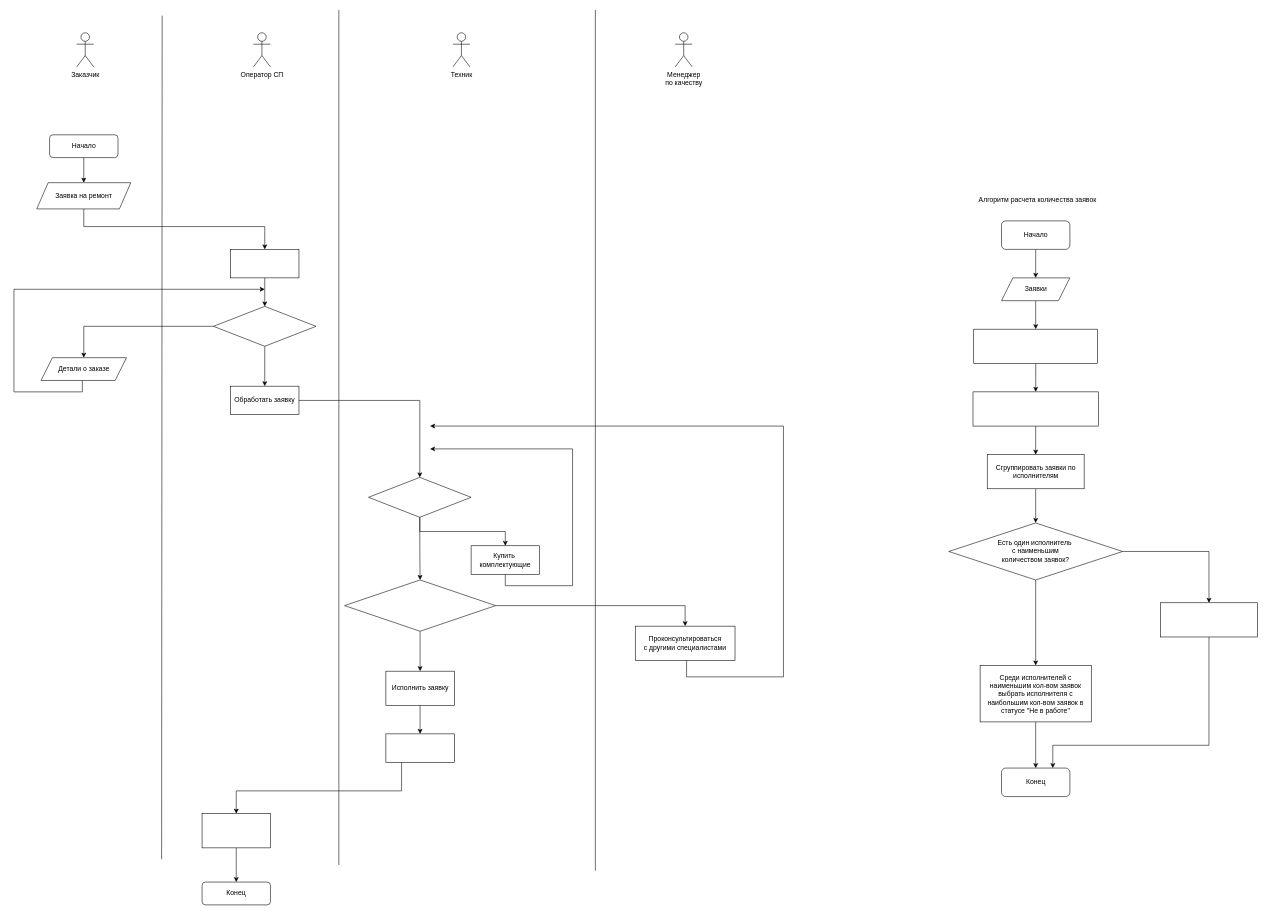
The diagram is 1268 pixels wide and 915 high, and some of its shapes have lost their labels. The centre of each missing label's shape, as x and y in pixels:
Выбрать все заявки в статусе "Не в работе" или "В работе": pixel 1035 346
Выбрать все заявки с назначенным исполнителем: pixel 1035 408
Зарегистрировать заявку: pixel 264 263
Назначить исполнителем техника с наименьшим количеством заявок: pixel 1208 619
Провести анализ заявки: pixel 235 830
Составить отчет: pixel 419 747
Требуется координация с другими специалистами?: pixel 420 605
Требуется уточнение деталей о заказе?: pixel 264 326
Требуются комплектующие?: pixel 419 497
